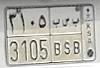0: (29, 17, 39, 62)
1: (19, 11, 29, 62)
3: (9, 13, 19, 62)
5: (38, 15, 49, 61)
B: (51, 18, 61, 57), (71, 17, 81, 55)
S: (62, 17, 71, 56)
